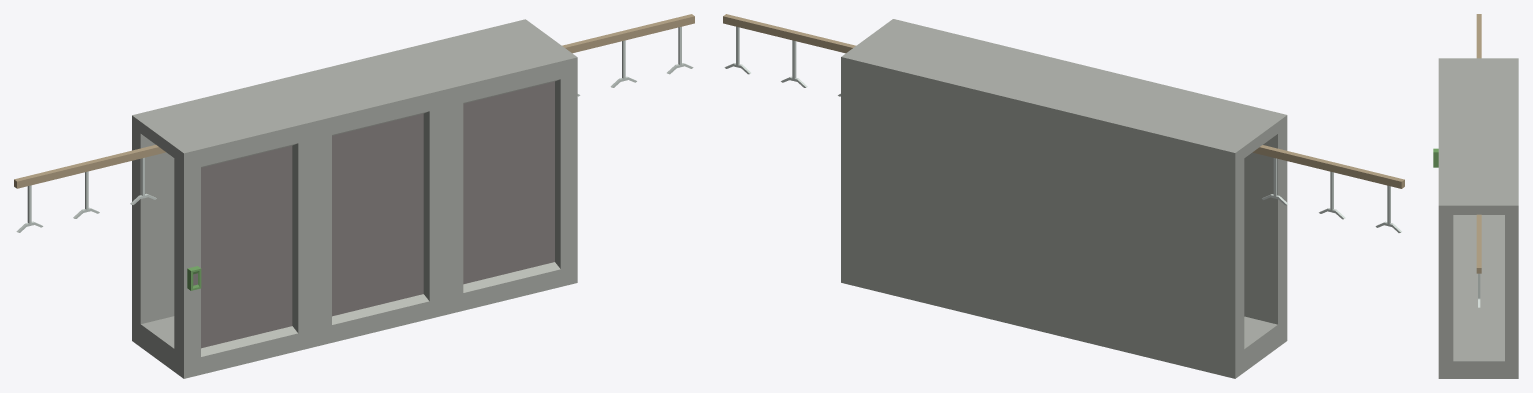
The model's file is SM_Transporter_01.fbx.
3 renders of one model, left to right at view 1: azimuth 30°, elevation 25°; view 2: azimuth 150°, elevation 25°; view 3: azimuth 270°, elevation 25°, orthographic. The views are drawn at different scales.
Parts seen in each view (by area): view 1: SM_Transporter_01; view 2: SM_Transporter_01; view 3: SM_Transporter_01.
Part boxes in pixels (box(x1,y1,x2,y2)): SM_Transporter_01: box(14, 14, 694, 378); SM_Transporter_01: box(723, 14, 1404, 378); SM_Transporter_01: box(1433, 14, 1518, 378).
Bounding box in the file's own units: 1205 × 383 × 171.
